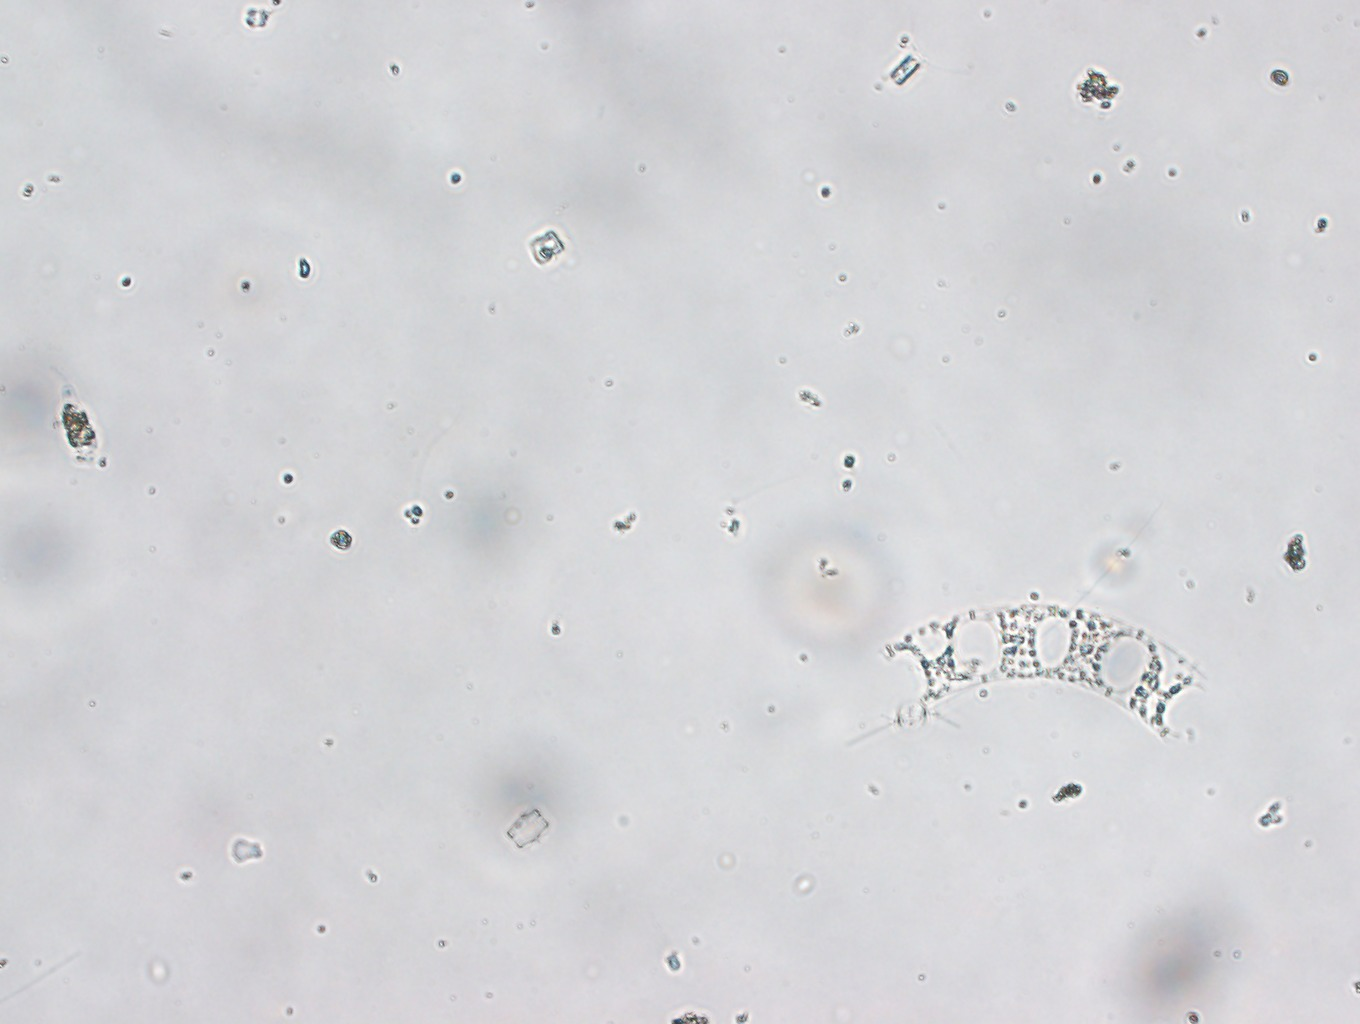eucampia: (863, 591, 1229, 758)
